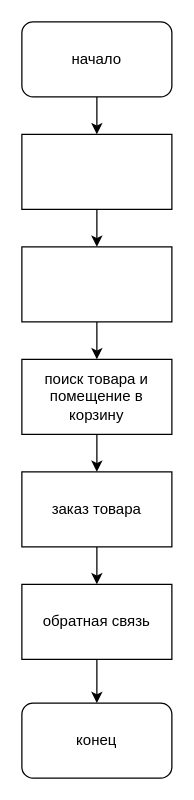
Some shapes in this 194 by 800 pixel diagram are drawn without their labels. Each missing label, with the centre of its shape:
авторизация: point 96,171
просмотр каталога: point 96,284
